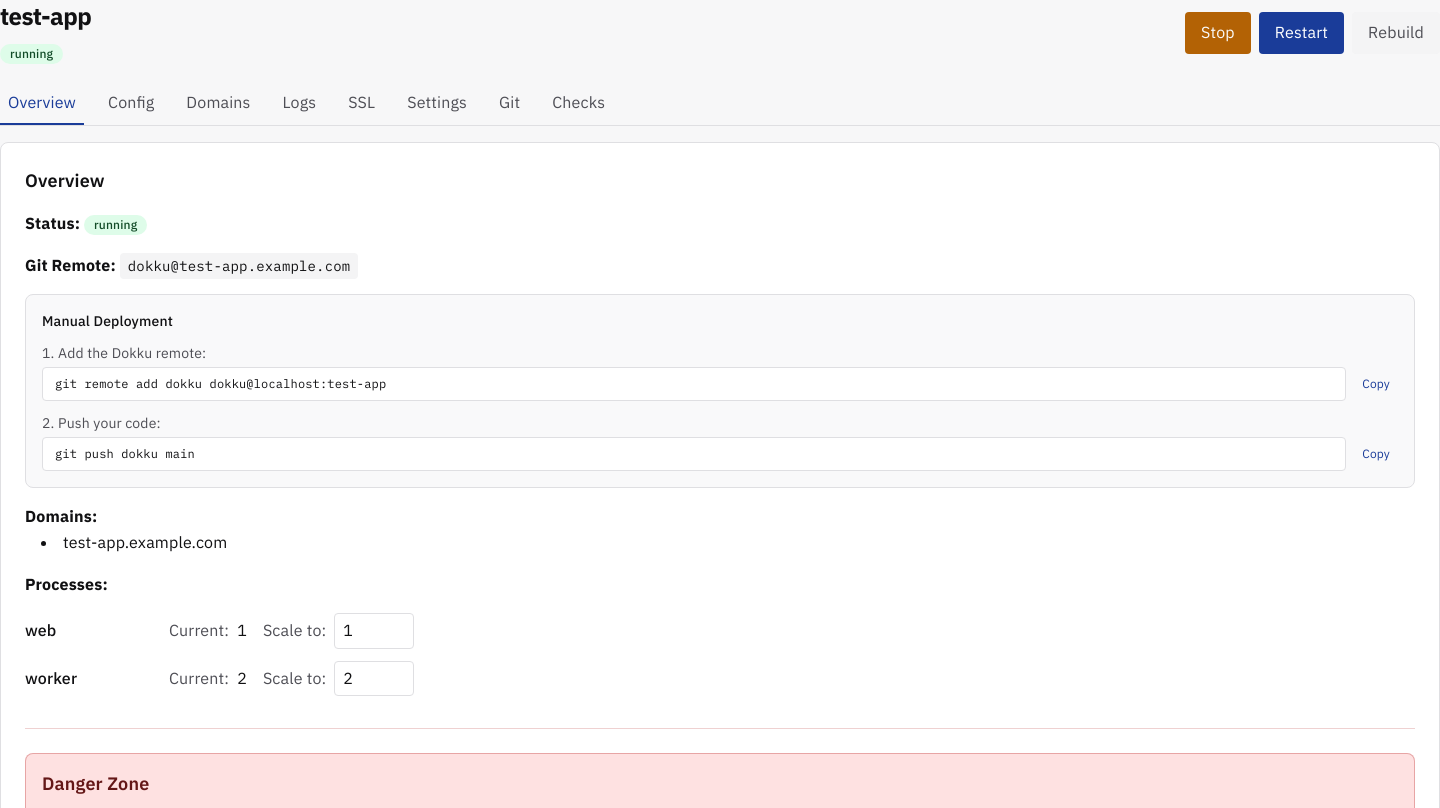
Test case: AppDetail › should switch between tabs
Expected: the button "Overview" is shown, [0,90,84,125]
Click the button "Config": (131, 107) [100,90,162,125]
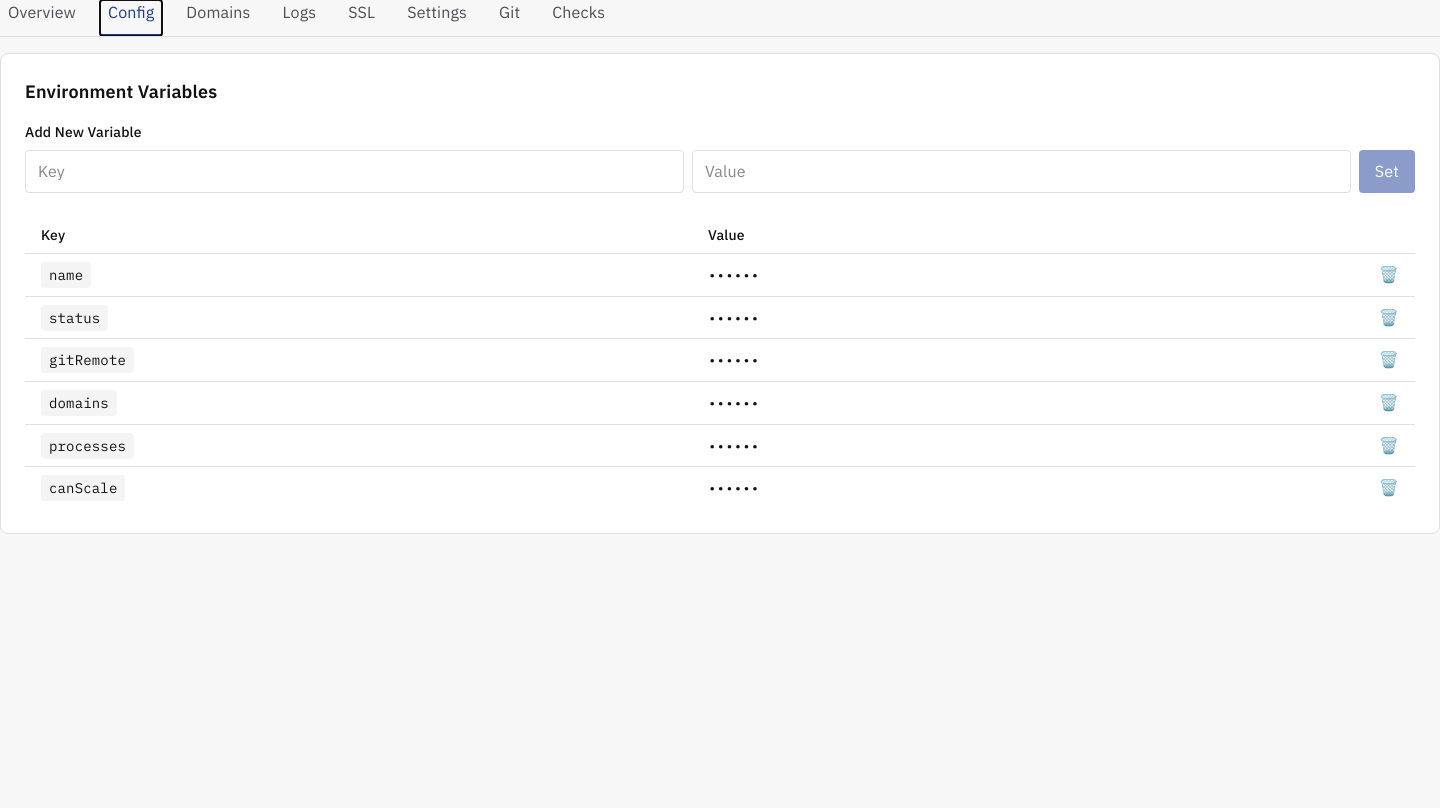
Now the heading "Environment Variables" is shown, box [25,78,217,106]
